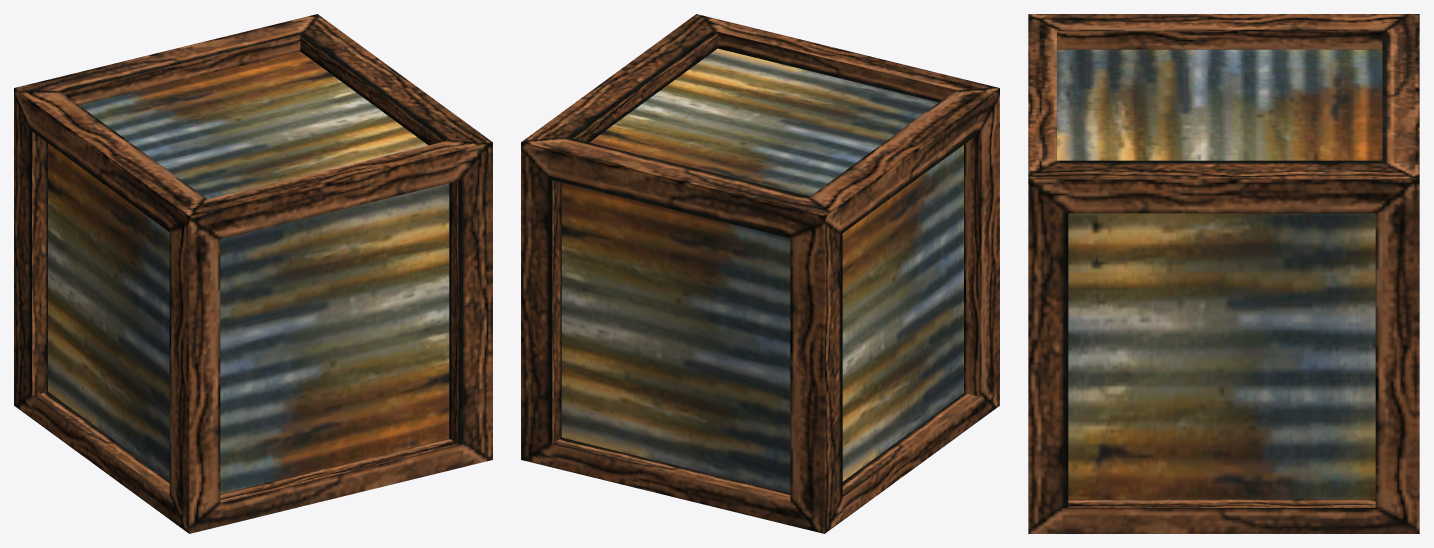
The model's file is LVL_RIV_INST_CRATEA.fbx.
3 views of the same model, side by side, from view 1: azimuth 30°, elevation 25°; view 2: azimuth 150°, elevation 25°; view 3: azimuth 270°, elevation 25° (orthographic). The views are drawn at different scales.
Visible parts, largest first — view 1: LVL_RIV_INST_CRATEA; view 2: LVL_RIV_INST_CRATEA; view 3: LVL_RIV_INST_CRATEA.
Part boxes in pixels (<box>): LVL_RIV_INST_CRATEA: <box>14,14,492,533</box>; LVL_RIV_INST_CRATEA: <box>521,14,999,533</box>; LVL_RIV_INST_CRATEA: <box>1028,14,1419,533</box>.
Size of the model in its own units: 12711 by 12711 by 12711.
Materials: 3 (3 with a texture image).
